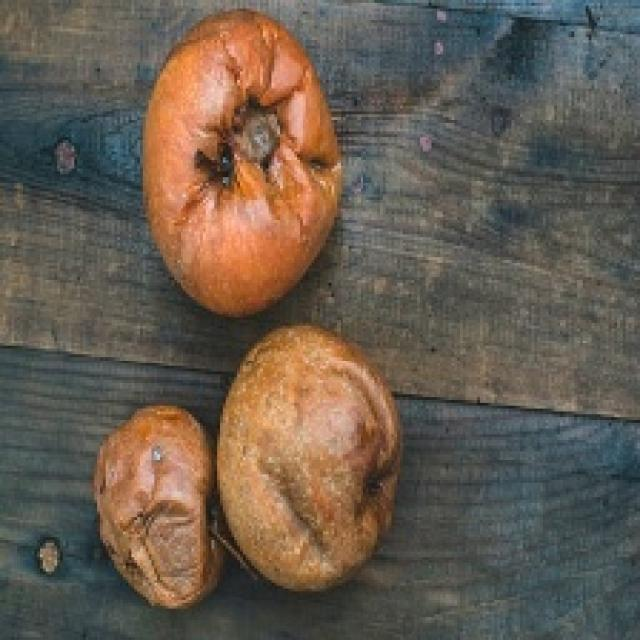rotten_apple: (146, 9, 340, 311), (224, 329, 400, 589), (98, 407, 220, 600)
